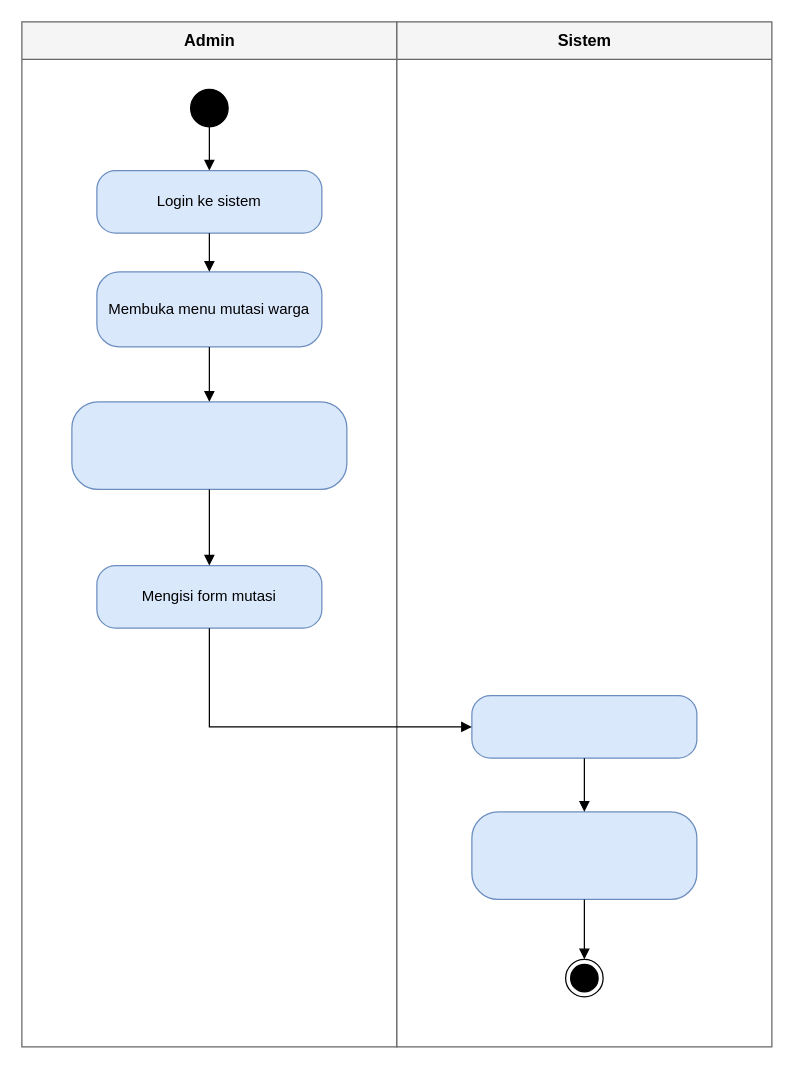
The diagram is 794 pixels wide and 1069 high, and some of its shapes have lost their labels. Each missing label, with the centre of its shape:
Memilih jenis mutasi (pindah datang, kelahiran, pindah keluar, atau kematian): the point at 209,445
Memperbarui status kependudukan warga secara otomatis: the point at 584,855
Menyimpan data mutasi: the point at 584,726
